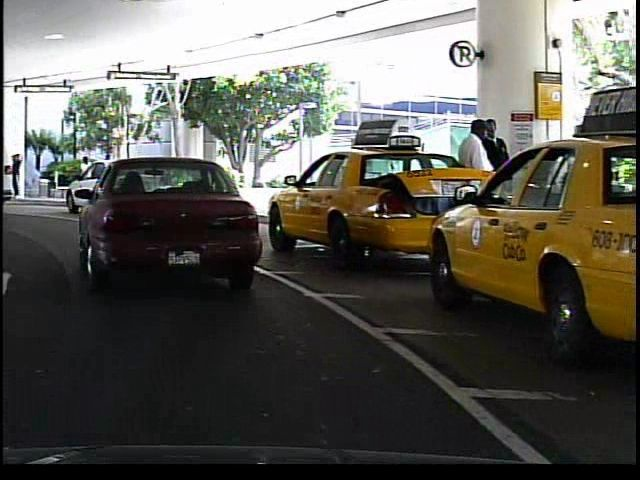person: (455, 114, 497, 244), (481, 114, 520, 240), (72, 152, 97, 197)
